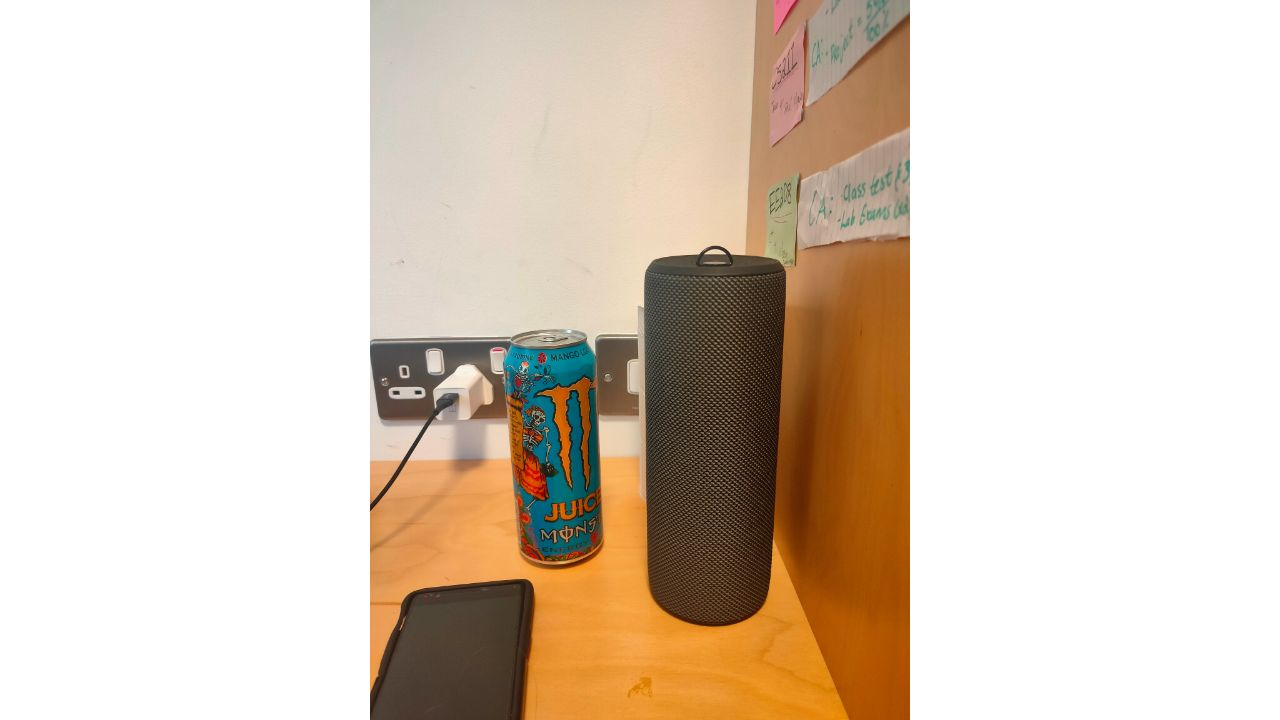Can: (502, 327, 608, 567)
